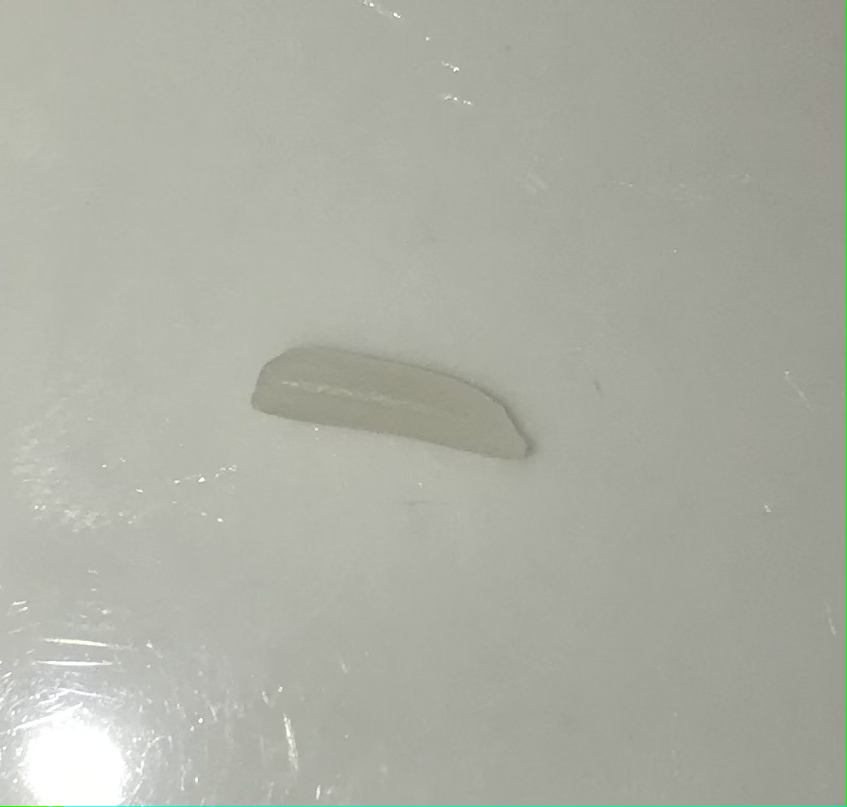Gao Thom Go Cong: (253, 313, 542, 497)
